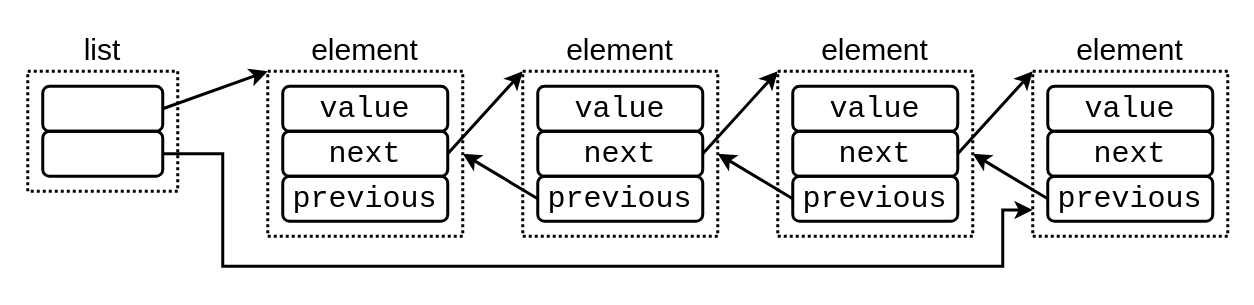
The diagram is 1254 pixels wide and 305 high, and some of its shapes have lost their labels. The shapes that lost their labels are listed below. From the top down, each one's centre as x and y in pixels, then its label:
At point 102,108: "head".
At point 102,153: "tail".
